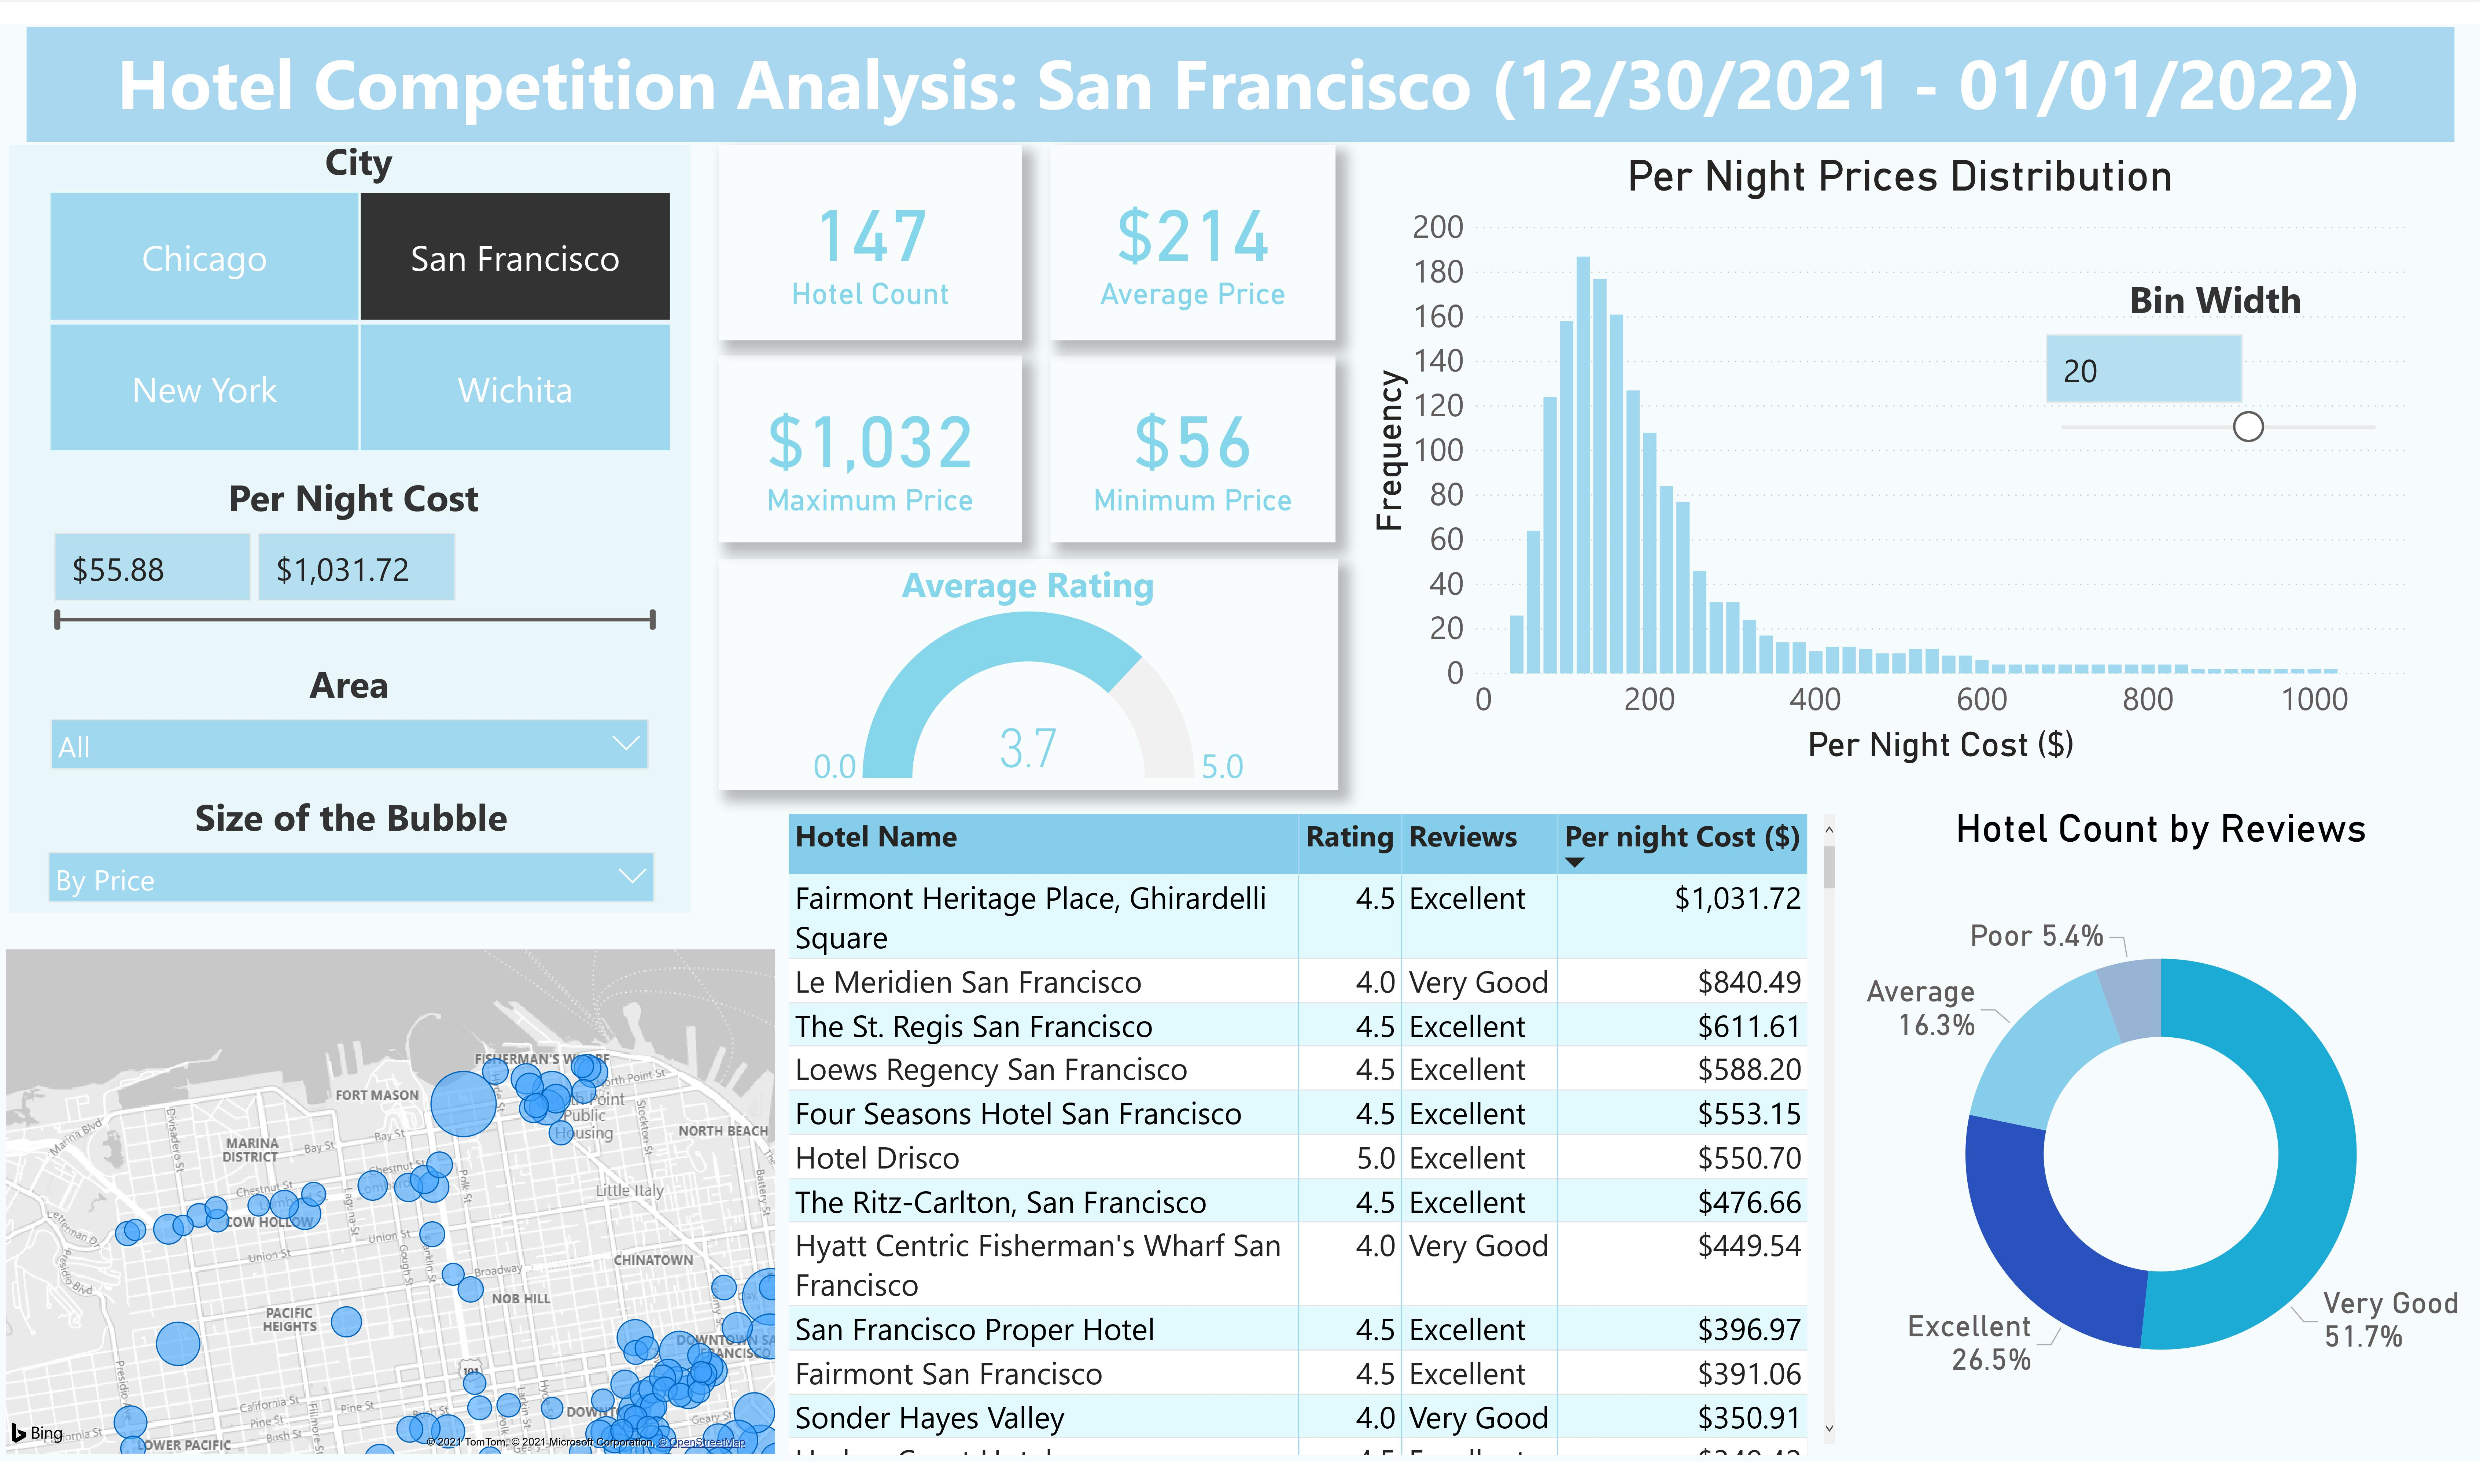

Layout of this report page (visuals, bound fields, positions):
{"tool":"powerbi","page":{"name":"City level summary","canvas":[2070,1200],"ordinal":2},"visuals":[{"type":"basicShape","box":[0,0,2070.7,101],"z":0},{"type":"card","fields":{"Values":["Hotel_DF.Title"]},"box":[30.3,0,2008.1,92.9],"z":1000},{"type":"card","fields":{"Values":["Hotel_DF.HotelCount"]},"box":[599.8,101.5,252.7,162.9],"z":2000},{"type":"card","fields":{"Values":["Hotel_DF.Lowest Price"]},"box":[876,276.3,238.5,155.8],"z":3000},{"type":"card","fields":{"Values":["Hotel_DF.Max Price"]},"box":[599.8,276.3,252.7,155.8],"z":4000},{"type":"card","fields":{"Values":["Hotel_DF.Average Price"]},"box":[876,101.5,238.5,162.9],"z":5000},{"type":"gauge","title":"Average Rating","fields":{"Y":["Avg(Hotel_DF.Rating)"]},"box":[599.7,446.5,516.6,192.6],"z":6000},{"type":"map","fields":{"Y":["Hotel_DF.lat"],"X":["Hotel_DF.lon"],"Size":["Metrics.Selection"]},"box":[0,768.3,652.3,431.2],"z":7000},{"type":"columnChart","title":"Per Night Prices Distribution","fields":{"Category":["my bins.bin from"],"Y":["my bins._histogram values"]},"box":[1136,105.1,901.8,516.6],"z":8000},{"type":"slicer","title":"Bin Width","fields":{"Values":["Histogram bins.Histogram bins"]},"box":[1694.9,208.1,309.1,155.6],"z":9000},{"type":"donutChart","title":"Hotel Count by Reviews","fields":{"Y":["Hotel_DF.HotelCount"],"Category":["Hotel_DF.Reviews"]},"box":[1537.4,652.5,533.3,545.5],"z":10000},{"type":"basicShape","box":[0,92.3,583.7,656.7],"z":11000},{"type":"slicer","title":"Per Night Cost","fields":{"Values":["Hotel_DF.PerNightCost"]},"box":[31.5,374.1,525.9,175.9],"z":12000},{"type":"slicer","title":"City","fields":{"Values":["Hotel_DF.Area"]},"box":[16.7,92.6,566.7,270.4],"z":13000},{"type":"slicer","title":"Area","fields":{"Values":["Hotel_DF.Location"]},"box":[31.5,529.6,518.5,109.3],"z":14000},{"type":"tableEx","fields":{"Values":["Hotel_DF.Name","Hotel_DF.Rating","Hotel_DF.Reviews","Avg(Hotel_DF.PerNightCost)"]},"box":[652.3,654.5,884.3,545],"z":15000},{"type":"slicer","title":"Size of the Bubble","fields":{"Values":["Metrics.Column1"]},"box":[30,639.5,525.8,128.8],"z":18000}]}

Visuals, with their boxes on the page's 2070x1200 design canvas (x1, y1, x2, y2). These are canvas units, not pixel positions in the 2480x1484 screenshot, which may show the page scaled, cropped or inside an application window:
basicShape: (left=0, top=0, right=2071, bottom=101)
card - Hotel_DF.Title: (left=30, top=0, right=2038, bottom=93)
card - Hotel_DF.HotelCount: (left=600, top=102, right=852, bottom=264)
card - Hotel_DF.Lowest Price: (left=876, top=276, right=1114, bottom=432)
card - Hotel_DF.Max Price: (left=600, top=276, right=852, bottom=432)
card - Hotel_DF.Average Price: (left=876, top=102, right=1114, bottom=264)
"Average Rating" gauge: (left=600, top=446, right=1116, bottom=639)
map - Hotel_DF.lat x Hotel_DF.lon: (left=0, top=768, right=652, bottom=1200)
"Per Night Prices Distribution" columnChart: (left=1136, top=105, right=2038, bottom=622)
"Bin Width" slicer: (left=1695, top=208, right=2004, bottom=364)
"Hotel Count by Reviews" donutChart: (left=1537, top=652, right=2071, bottom=1198)
basicShape: (left=0, top=92, right=584, bottom=749)
"Per Night Cost" slicer: (left=32, top=374, right=557, bottom=550)
"City" slicer: (left=17, top=93, right=583, bottom=363)
"Area" slicer: (left=32, top=530, right=550, bottom=639)
tableEx - Hotel_DF.Name x Hotel_DF.Rating: (left=652, top=654, right=1537, bottom=1200)
"Size of the Bubble" slicer: (left=30, top=640, right=556, bottom=768)
